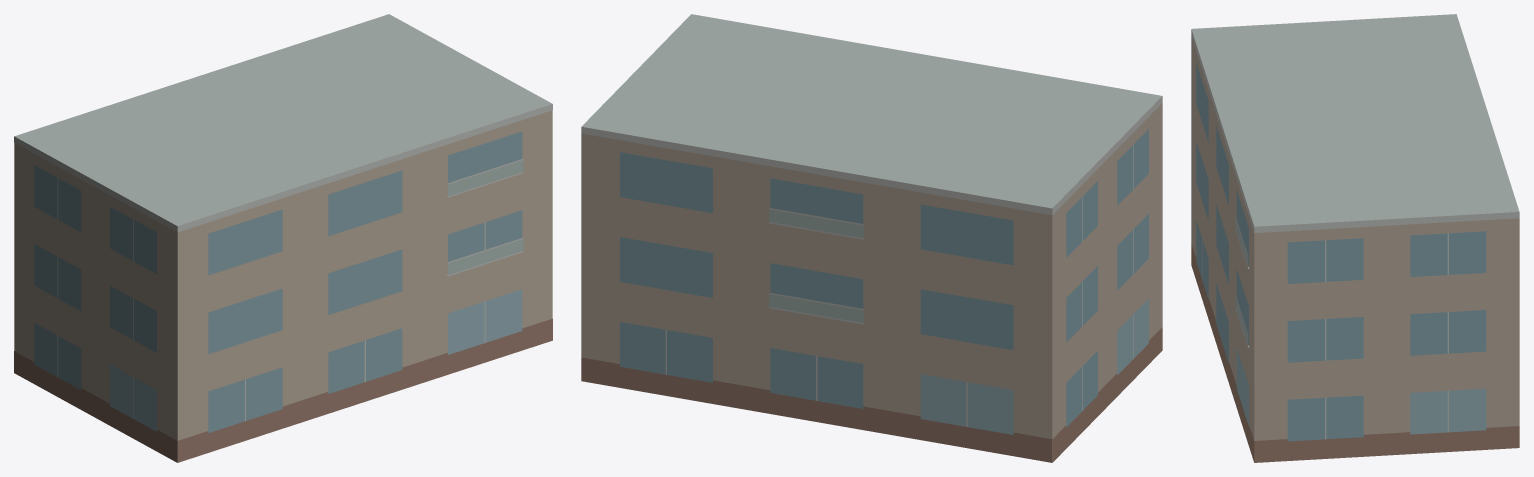
File: survey-upis-32915438.glb
The picture shows the model from 3 angles, left to right: view 1: azimuth 30°, elevation 25°; view 2: azimuth 150°, elevation 25°; view 3: azimuth 270°, elevation 25°; orthographic projection. The views are drawn at different scales.
Visible parts, largest first — view 1: survey-upis-32915438.tmp; view 2: survey-upis-32915438.tmp; view 3: survey-upis-32915438.tmp.
Boxes of the visible parts, x1,y1,x2,y2 form: survey-upis-32915438.tmp: (14,14,552,462); survey-upis-32915438.tmp: (581,14,1162,462); survey-upis-32915438.tmp: (1191,14,1519,462).
Bounding box in the file's own units: 17.7 × 9.15 × 11.54.
